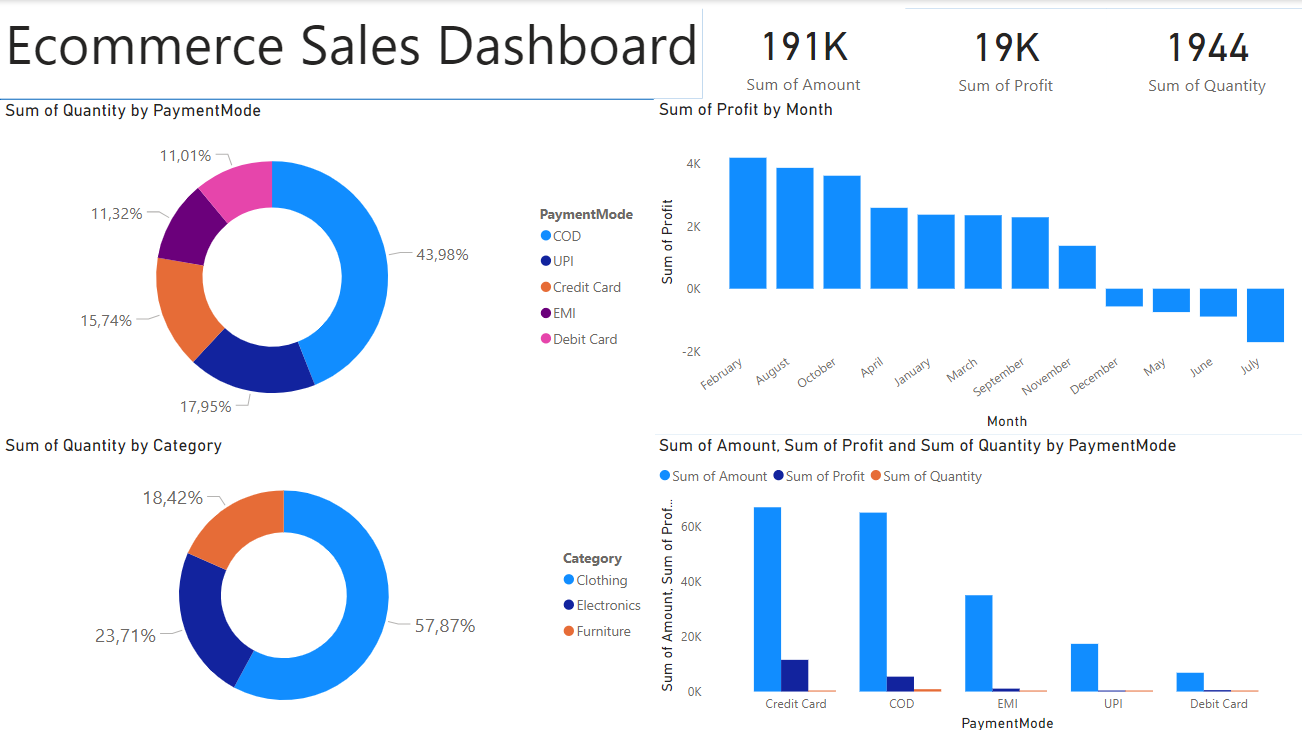

Layout of this report page (visuals, bound fields, positions):
{"tool":"powerbi","page":{"name":"Page 2","canvas":[1280,720],"ordinal":1},"visuals":[{"type":"shape","box":[0,0,1280.3,96.1],"z":0},{"type":"shape","box":[0,96.1,640.8,329.3],"z":1000},{"type":"shape","box":[639.5,96.1,640.8,329.3],"z":2000},{"type":"shape","box":[0,425.4,639.5,295],"z":3000},{"type":"shape","box":[640.8,425.4,639.5,295],"z":4000},{"type":"textbox","box":[0,0,1280.3,96.1],"z":5000},{"type":"shape","box":[1082.7,8.2,197.6,87.8],"z":6000},{"type":"shape","box":[885.1,8.2,197.6,87.8],"z":7000},{"type":"shape","box":[687.5,8.2,197.6,87.8],"z":8000},{"type":"card","fields":{"Values":["measures calculations.Sum of Quantity"]},"box":[1082.7,8.2,197.6,89.2],"z":9000},{"type":"card","fields":{"Values":["measures calculations.Sum of Profit"]},"box":[885.1,8.2,197.6,89.2],"z":10000},{"type":"card","fields":{"Values":["measures calculations.Sum of Amount"]},"box":[687.2,7.3,198.1,89.3],"z":11000},{"type":"donutChart","fields":{"Category":["Orders and Details.PaymentMode"],"Y":["measures calculations.Sum of Quantity"]},"box":[0,97.8,640.8,327.7],"z":12000},{"type":"donutChart","fields":{"Y":["measures calculations.Sum of Quantity"],"Category":["Orders and Details.Category"]},"box":[0,425.5,640.8,294.7],"z":13000},{"type":"clusteredColumnChart","fields":{"Y":["measures calculations.Sum of Amount","measures calculations.Sum of Profit","measures calculations.Sum of Quantity"],"Category":["Orders and Details.PaymentMode"]},"box":[639.5,425.5,640.8,294.7],"z":14000},{"type":"clusteredColumnChart","fields":{"Y":["measures calculations.Sum of Profit"],"Category":["Orders and Details.Month"]},"box":[639.5,96.6,640.8,328.9],"z":15000}]}

Visuals, with their boxes in screenshot pixels (x1, y1, x2, y2), scaled from the page's 1280x720 canvas onto the 1302x732 screenshot:
shape: [left=0, top=0, right=1301, bottom=98]
shape: [left=0, top=98, right=652, bottom=432]
shape: [left=650, top=98, right=1301, bottom=432]
shape: [left=0, top=432, right=650, bottom=731]
shape: [left=652, top=432, right=1301, bottom=731]
textbox: [left=0, top=0, right=1301, bottom=98]
shape: [left=1101, top=8, right=1301, bottom=98]
shape: [left=900, top=8, right=1101, bottom=98]
shape: [left=699, top=8, right=900, bottom=98]
card - measures calculations.Sum of Quantity: [left=1101, top=8, right=1301, bottom=99]
card - measures calculations.Sum of Profit: [left=900, top=8, right=1101, bottom=99]
card - measures calculations.Sum of Amount: [left=699, top=7, right=901, bottom=98]
donutChart - Orders and Details.PaymentMode x measures calculations.Sum of Quantity: [left=0, top=99, right=652, bottom=433]
donutChart - measures calculations.Sum of Quantity x Orders and Details.Category: [left=0, top=433, right=652, bottom=731]
clusteredColumnChart - measures calculations.Sum of Amount x measures calculations.Sum of Profit: [left=650, top=433, right=1301, bottom=731]
clusteredColumnChart - measures calculations.Sum of Profit x Orders and Details.Month: [left=650, top=98, right=1301, bottom=433]
